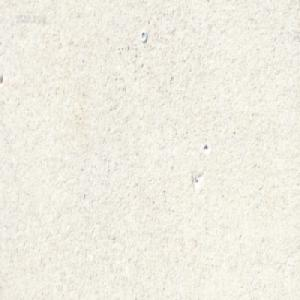Washer: (139, 30, 146, 43)
